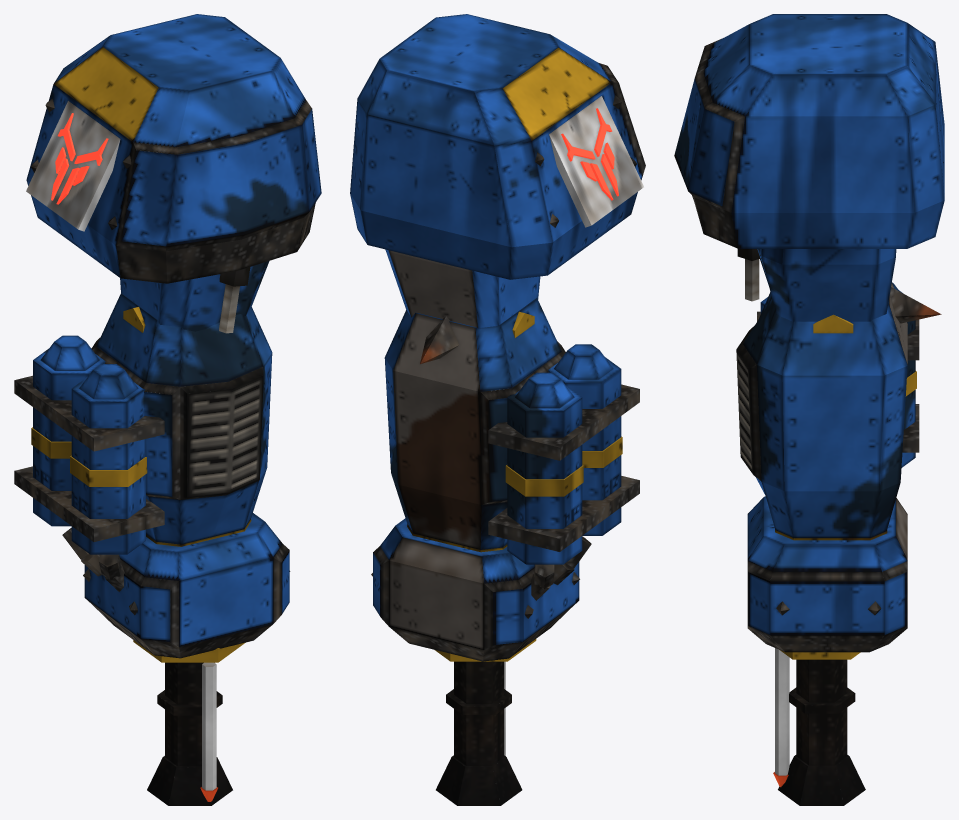
The model's file is LeftFlamethrowerArmY.glb.
The picture shows the model from 3 angles, left to right: view 1: azimuth 30°, elevation 25°; view 2: azimuth 150°, elevation 25°; view 3: azimuth 270°, elevation 25°; orthographic projection. The views are drawn at different scales.
Visible parts, largest first — view 1: LeftFlamethrowerArmY_Fore, LeftFlamethrowerArmY_Upper; view 2: LeftFlamethrowerArmY_Fore, LeftFlamethrowerArmY_Upper; view 3: LeftFlamethrowerArmY_Fore, LeftFlamethrowerArmY_Upper.
Part boxes in pixels (bbox=[...]): LeftFlamethrowerArmY_Fore: bbox=[14, 293, 290, 805]; LeftFlamethrowerArmY_Upper: bbox=[26, 14, 321, 333]; LeftFlamethrowerArmY_Fore: bbox=[371, 298, 639, 805]; LeftFlamethrowerArmY_Upper: bbox=[350, 14, 645, 328]; LeftFlamethrowerArmY_Fore: bbox=[736, 282, 941, 805]; LeftFlamethrowerArmY_Upper: bbox=[674, 14, 944, 321].
Size of the model in its own units: 5.61 by 17.8 by 5.83.
Materials: 11 (10 with a texture image).
